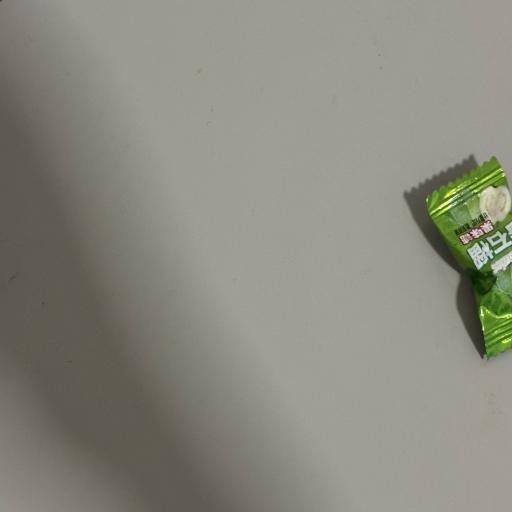chocolate: (427, 158, 511, 358)
